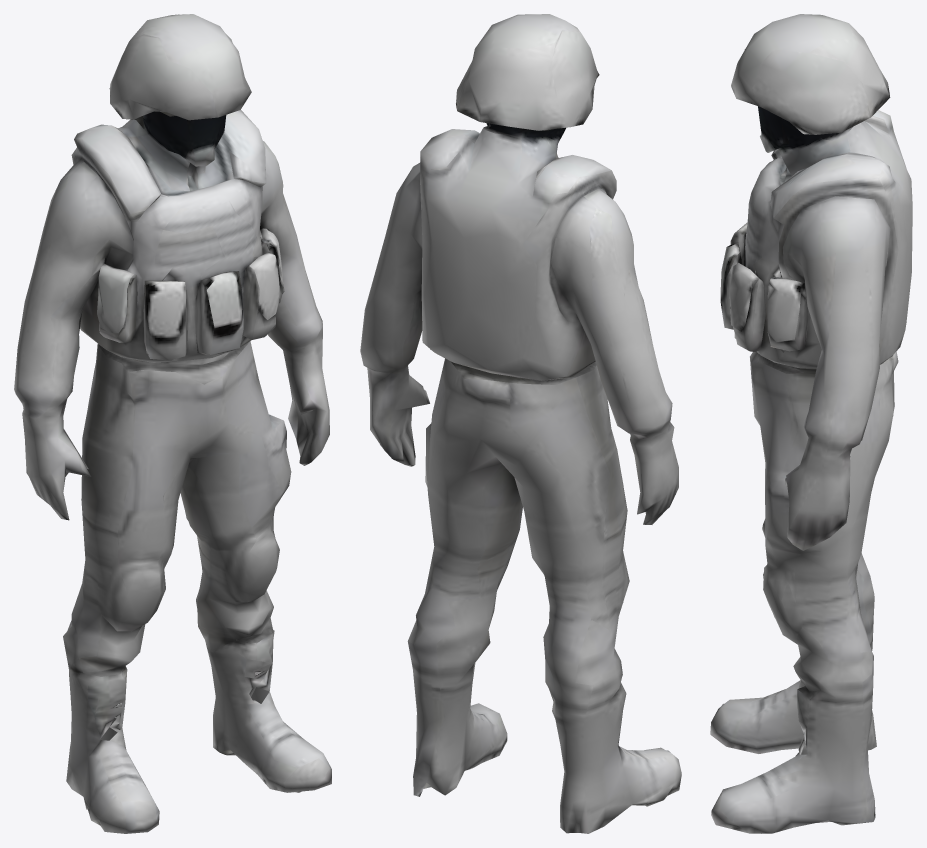
The model's file is operator.glb.
3 views of the same model, side by side, from view 1: azimuth 30°, elevation 25°; view 2: azimuth 150°, elevation 25°; view 3: azimuth 270°, elevation 25° (orthographic).
Visible parts, largest first — view 1: geometry_0; view 2: geometry_0; view 3: geometry_0.
Boxes of the visible parts, x1=… form: geometry_0: x1=14, y1=14, x2=331, y2=833; geometry_0: x1=360, y1=14, x2=681, y2=833; geometry_0: x1=710, y1=14, x2=912, y2=833.
Bounding box in the file's own units: 74.6 × 180 × 43.51.
Materials: 1 (1 with a texture image).
